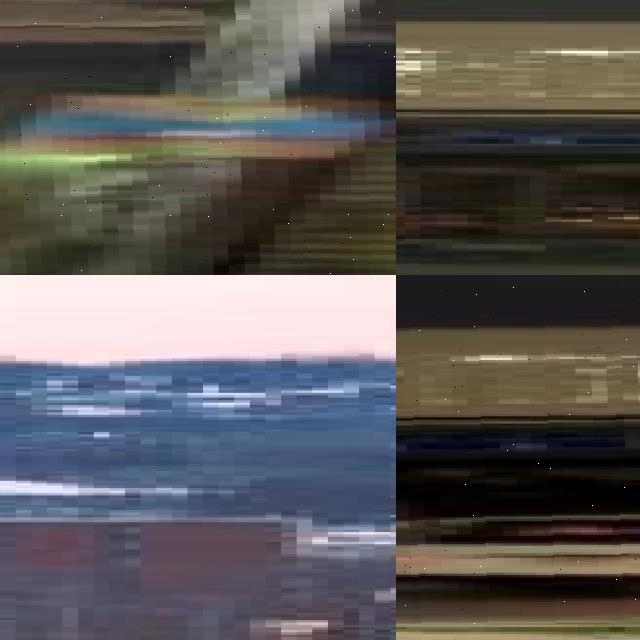street light: (0, 0, 396, 275), (396, 275, 640, 627)
